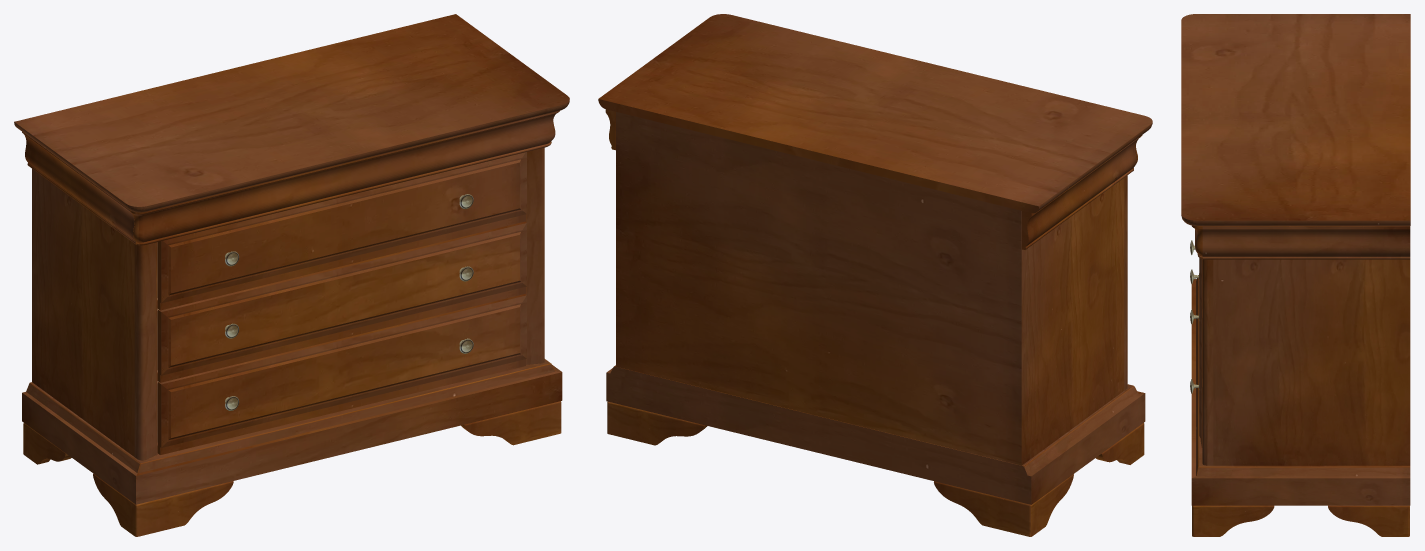
File: dresser_commode_4_tiroirs_antoine.glb
3 views of the same model, side by side, from view 1: azimuth 30°, elevation 25°; view 2: azimuth 150°, elevation 25°; view 3: azimuth 270°, elevation 25° (orthographic). The views are drawn at different scales.
Parts seen in each view (by area): view 1: Object_2, Object_4; view 2: Object_2; view 3: Object_2, Object_4.
Part boxes in pixels (<box>): Object_2: <box>14,14,569,536</box>; Object_4: <box>225,194,473,410</box>; Object_2: <box>598,14,1152,536</box>; Object_2: <box>1181,14,1410,536</box>; Object_4: <box>1190,240,1199,393</box>.
Size of the model in its own units: 1.13 by 0.816 by 0.53.
Materials: 3 (2 with a texture image).
